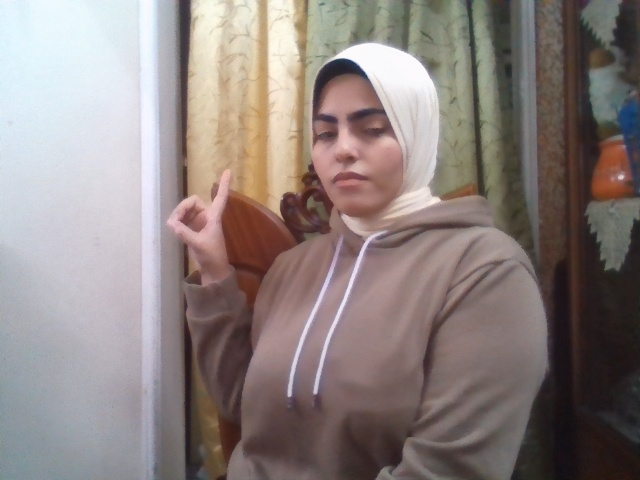D: (166, 168, 232, 273)
